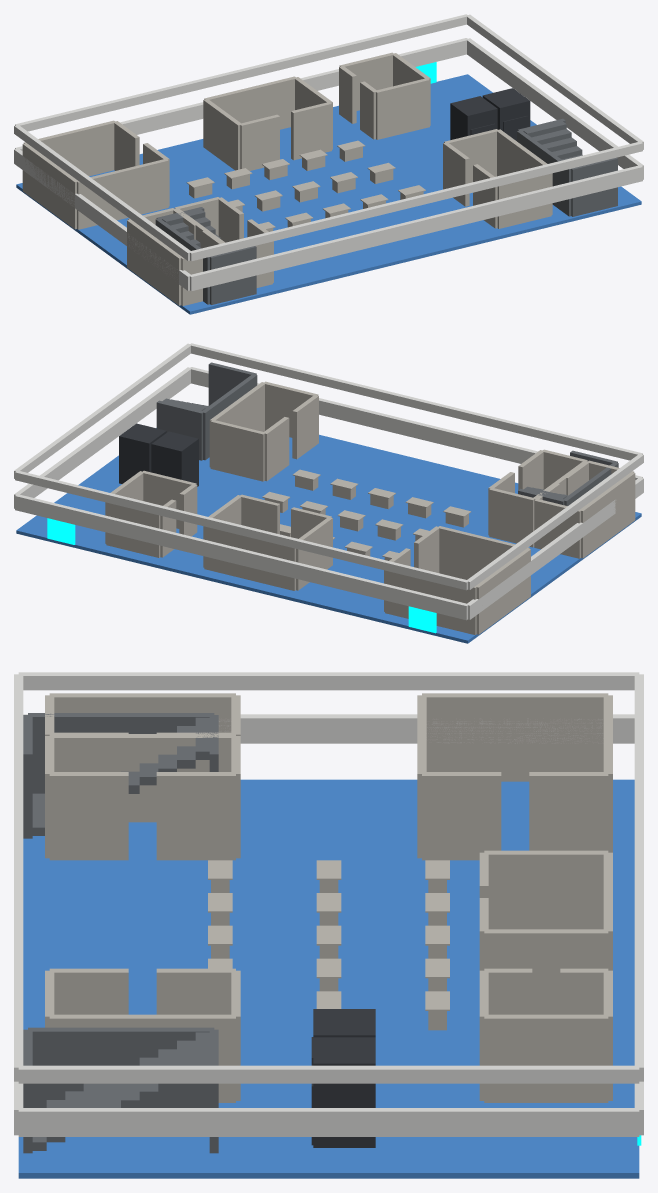
Rendered from Floor_02_Office.fbx.
The picture shows the model from 3 angles, top to bottom: view 1: azimuth 30°, elevation 25°; view 2: azimuth 150°, elevation 25°; view 3: azimuth 270°, elevation 25°; orthographic projection. The views are drawn at different scales.
Visible parts, largest first — view 1: F2_Slab, F2_Wall_F, F2_Wall_F_Hdr, F2_Wall_B_Hdr, F2_Conference_S, F2_Wall_R, F2_Wall_B, F2_RestroomM_W, F2_Pantry_S, F2_ManagerOffice_N, F2_Conference_N, F2_Conference_W (+27 smaller); view 2: F2_Slab, F2_Wall_B, F2_Wall_B_Hdr, F2_Wall_F_Hdr, F2_Wall_F, F2_Wall_R, F2_Storage_N, F2_Wall_L, F2_Conference_S, F2_ManagerOffice_N, F2_RestroomM_W, F2_Wall_L_Hdr (+30 smaller); view 3: F2_Slab, F2_Wall_R, F2_Conference_W, F2_Wall_R_Hdr, F2_Wall_L_Hdr, F2_ManagerOffice_W, F2_Pantry_E, F2_StairB_Wo, F2_RestroomF_E1, F2_RestroomF_E2, F2_Conference_E1, F2_Wall_L (+26 smaller).
Boxes of the visible parts, left/top/right/bottom form: F2_Slab: left=16, top=74, right=641, bottom=314; F2_Wall_F: left=189, top=165, right=642, bottom=291; F2_Wall_F_Hdr: left=189, top=141, right=642, bottom=261; F2_Wall_B_Hdr: left=15, top=14, right=468, bottom=131; F2_Conference_S: left=76, top=159, right=168, bottom=229; F2_Wall_R: left=467, top=38, right=643, bottom=179; F2_Wall_B: left=15, top=38, right=468, bottom=150; F2_RestroomM_W: left=127, top=220, right=182, bottom=305; F2_Pantry_S: left=376, top=78, right=429, bottom=139; F2_ManagerOffice_N: left=204, top=76, right=296, bottom=129; F2_Conference_N: left=23, top=120, right=114, bottom=176; F2_Conference_W: left=22, top=143, right=77, bottom=229; F2_Slab: left=16, top=428, right=641, bottom=643; F2_Wall_B: left=15, top=494, right=468, bottom=620; F2_Wall_B_Hdr: left=15, top=470, right=468, bottom=590; F2_Wall_F_Hdr: left=189, top=343, right=642, bottom=460; F2_Wall_F: left=189, top=367, right=642, bottom=479; F2_Wall_R: left=14, top=367, right=190, bottom=508; F2_Storage_N: left=210, top=420, right=265, bottom=481; F2_Wall_L: left=467, top=477, right=643, bottom=619; F2_Conference_S: left=437, top=526, right=529, bottom=579; F2_ManagerOffice_N: left=204, top=526, right=295, bottom=590; F2_RestroomM_W: left=579, top=472, right=635, bottom=558; F2_Wall_L_Hdr: left=467, top=454, right=643, bottom=589; F2_Slab: left=18, top=779, right=639, bottom=1178; F2_Wall_R: left=18, top=1108, right=639, bottom=1136; F2_Conference_W: left=422, top=693, right=608, bottom=781; F2_Wall_R_Hdr: left=18, top=1065, right=639, bottom=1083; F2_Wall_L_Hdr: left=18, top=672, right=639, bottom=690; F2_ManagerOffice_W: left=484, top=850, right=608, bottom=929; F2_Pantry_E: left=484, top=1014, right=608, bottom=1102; F2_StairB_Wo: left=28, top=1027, right=214, bottom=1107; F2_RestroomF_E1: left=49, top=772, right=128, bottom=860; F2_RestroomF_E2: left=156, top=772, right=235, bottom=860; F2_Conference_E1: left=422, top=772, right=501, bottom=860; F2_Wall_L: left=23, top=714, right=634, bottom=743.
Bounding box in the file's own units: 30.3 × 3.95 × 20.3.
